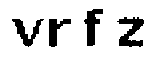f: (80, 5, 105, 49)
r: (47, 15, 74, 49)
v: (8, 16, 45, 50)
z: (114, 17, 147, 51)
